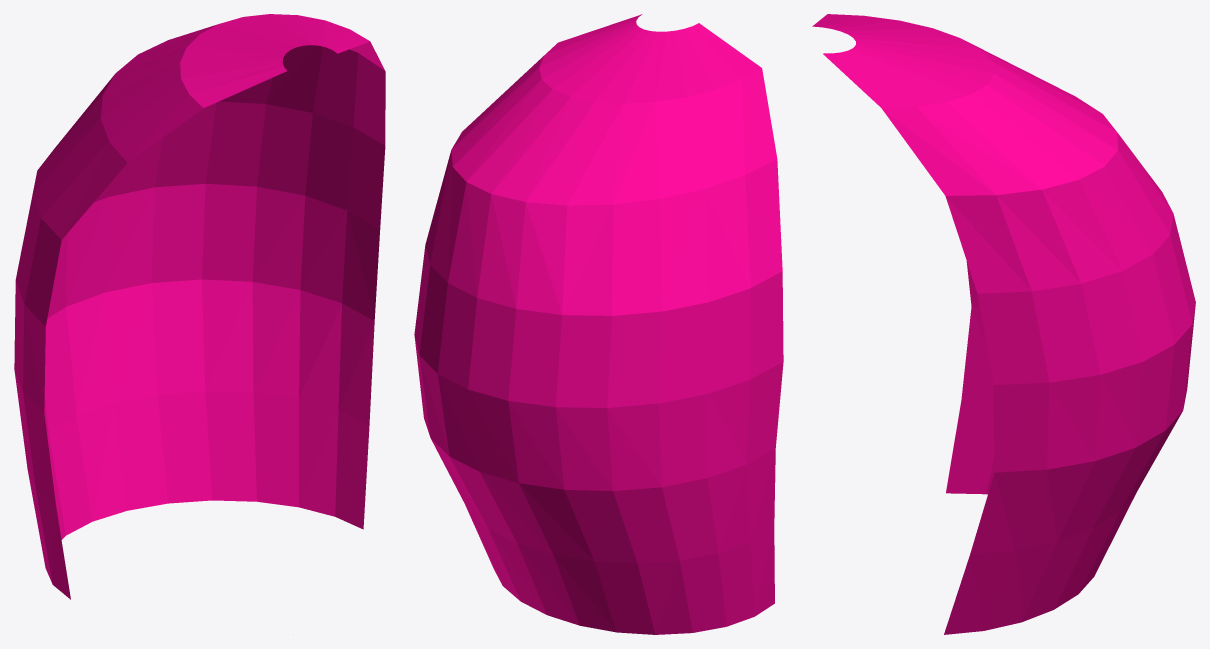
File: spi_tribord.dae
The picture shows the model from 3 angles, left to right: view 1: azimuth 30°, elevation 25°; view 2: azimuth 150°, elevation 25°; view 3: azimuth 270°, elevation 25°; orthographic projection. The views are drawn at different scales.
Visible parts, largest first — view 1: SketchUp; view 2: SketchUp; view 3: SketchUp.
Part boxes in pixels (x1,y1,x2,y2): SketchUp: (14,14,385,599); SketchUp: (414,14,783,634); SketchUp: (812,14,1195,634).
Size of the model in its own units: 68419 by 65218 by 107159.
Materials: 7 (1 with a texture image).
